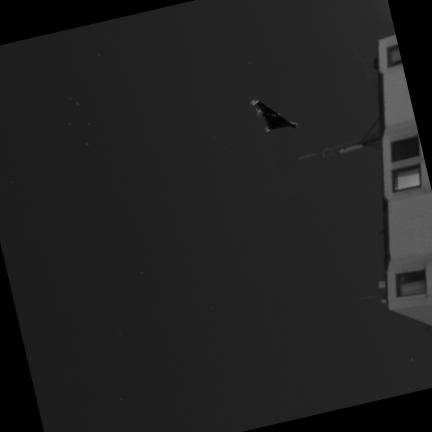Shahed: (251, 100, 298, 131)
